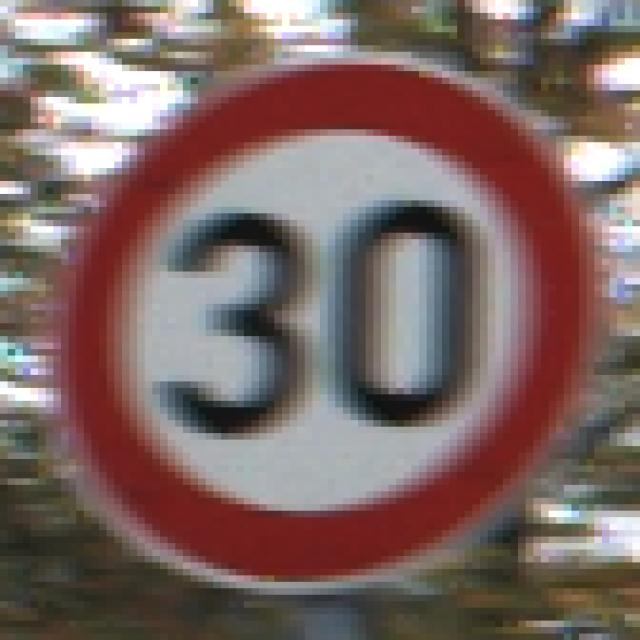Speed Limit -30-: (49, 49, 583, 585)
